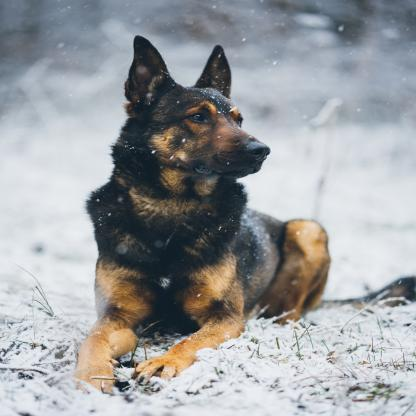dog: (76, 36, 339, 383)
